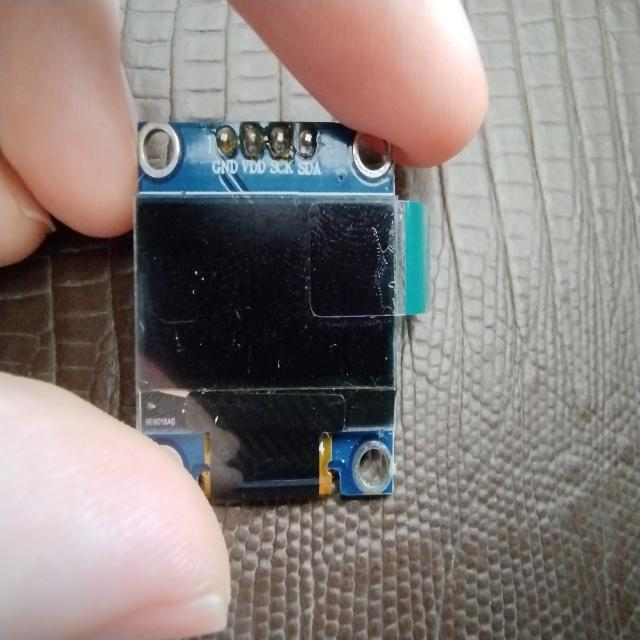oled: (122, 102, 440, 513)
